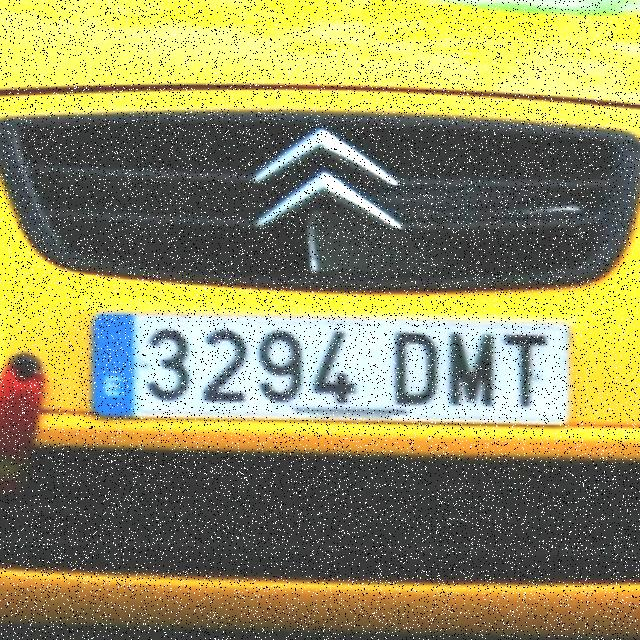licenseplate: (86, 306, 584, 432)
